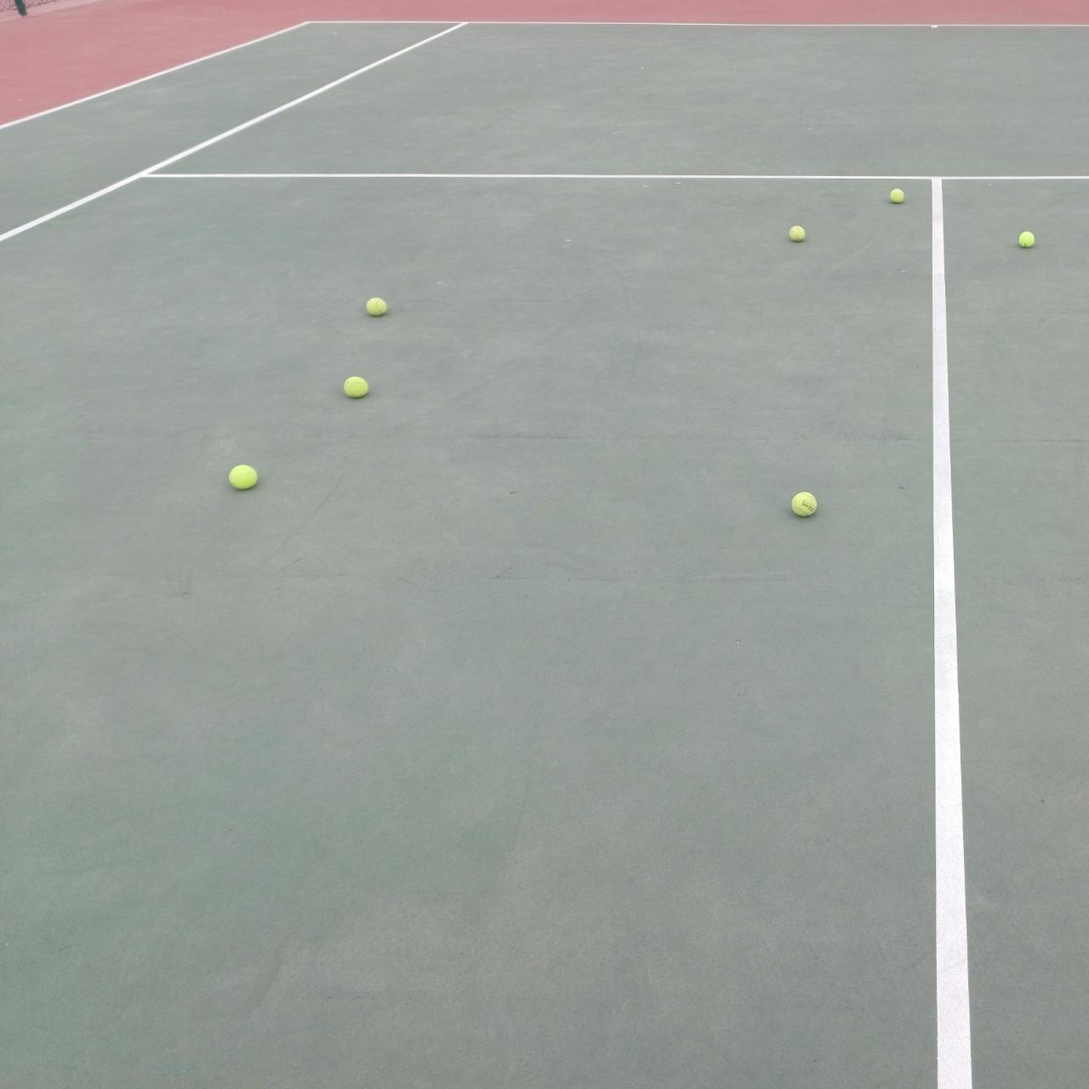tennis-ball: (227, 461, 258, 490), (790, 489, 817, 516), (342, 373, 368, 397), (364, 294, 387, 316), (1017, 229, 1034, 248), (887, 185, 904, 203), (788, 223, 805, 241)
